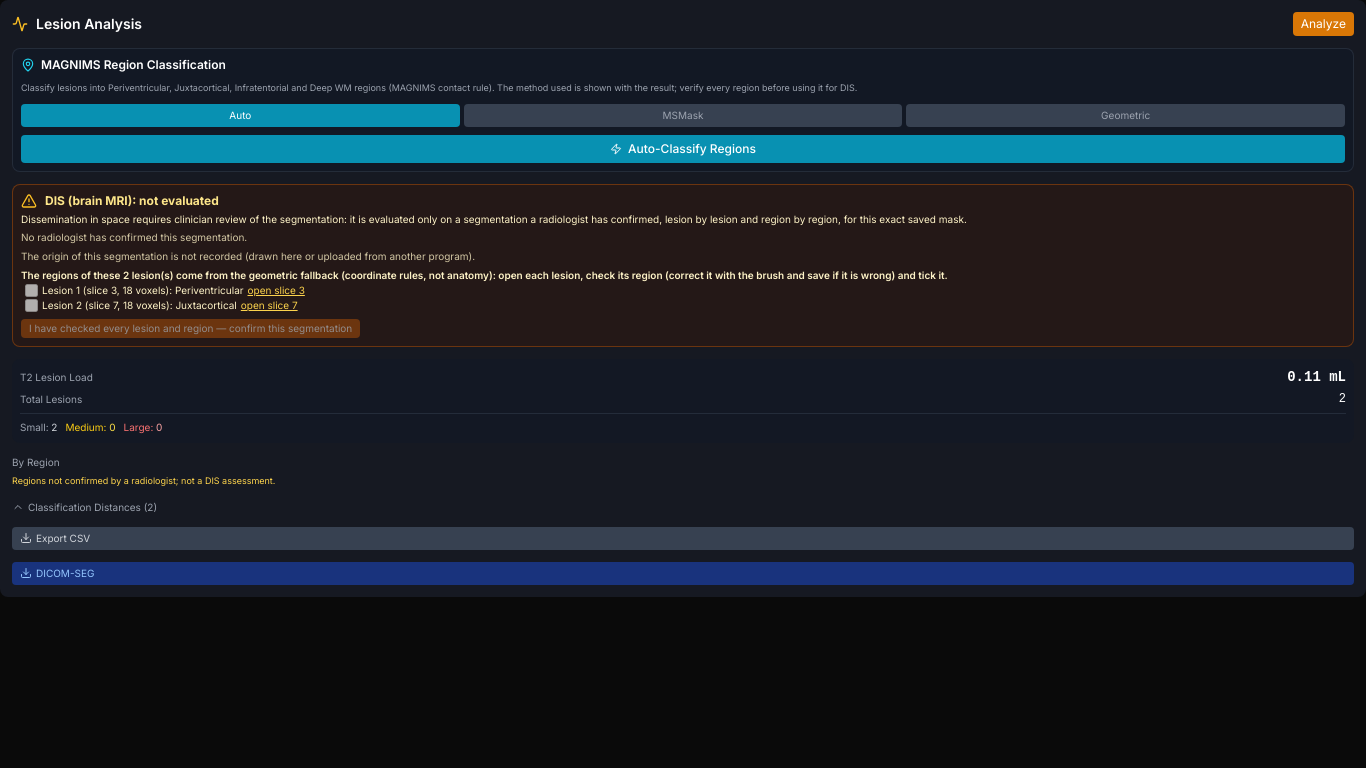
Test case: review m2: a tick only while this segmentation is open and drawn, after opening its slice › rc090 review m2 a tick is given only after its "open slice" was pressed
The width and height of the screenshot is (1366, 768).
Expected: the checkbox named "checked the region of lesion" is disabled, [25,284,38,297]
Click the button "open slice 3". click: [276, 291]
box: [248,283,305,298]
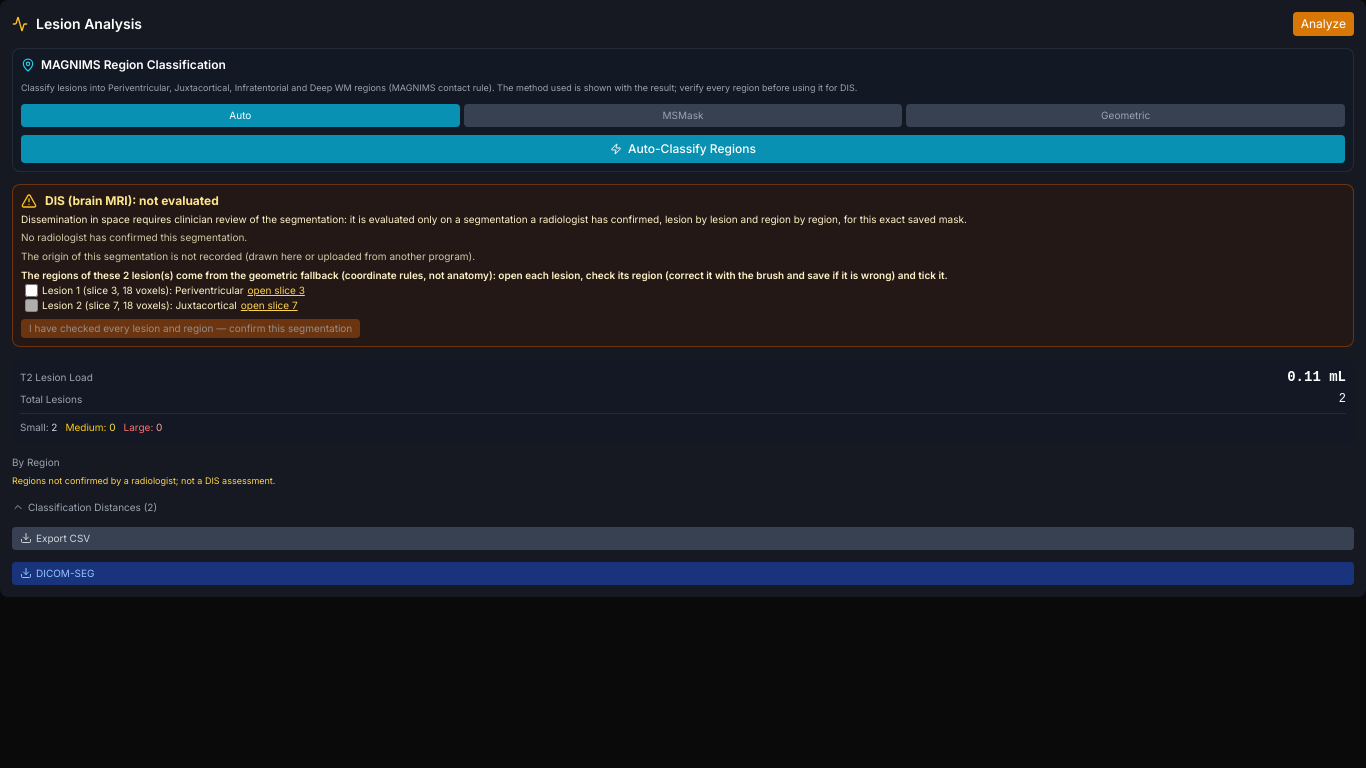
Expected: the checkbox named "checked the region of lesion" is disabled, [25,299,38,312]
Expected: the checkbox named "checked the region of lesion" is enabled, [25,284,38,297]
